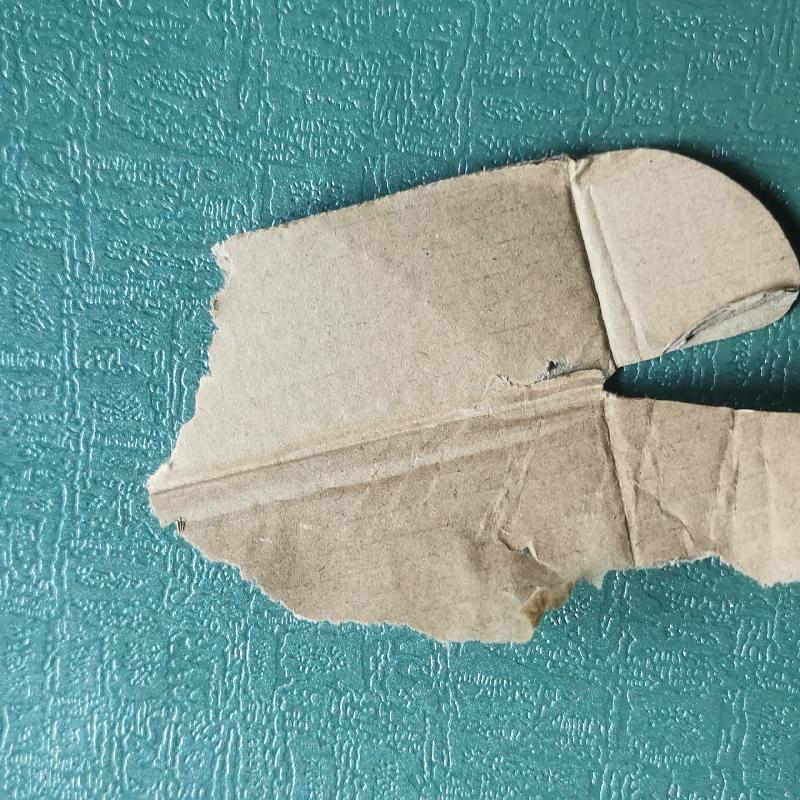boxes: (141, 143, 800, 670)
